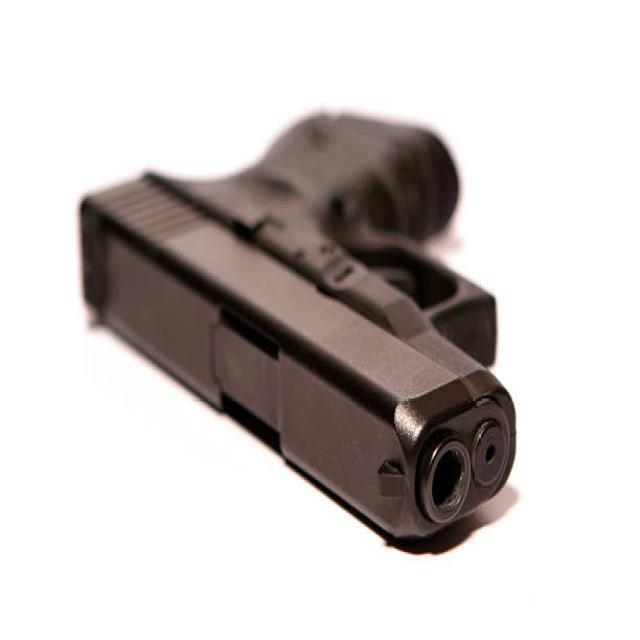pistol: (76, 95, 531, 554)
